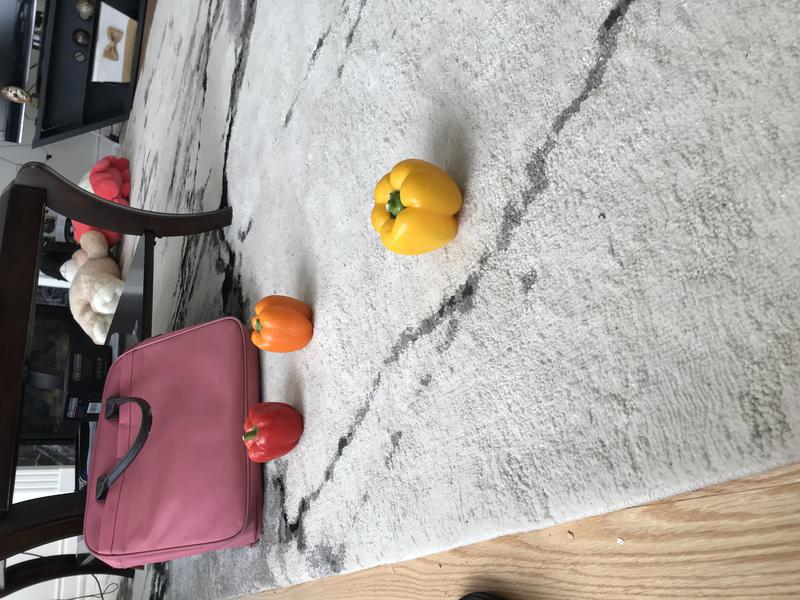orange_pepper: (243, 290, 317, 356)
red_pepper: (236, 400, 309, 461)
yellow_pepper: (366, 155, 467, 256)
